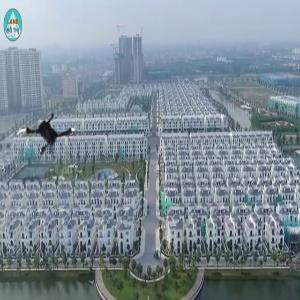drone: (15, 102, 84, 171)
